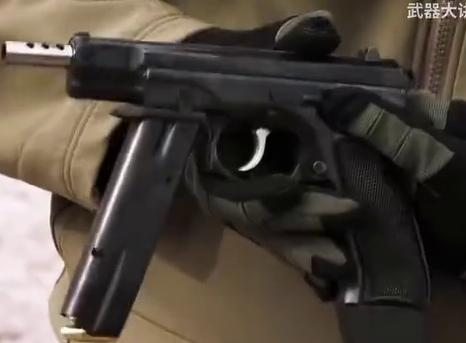gun: (1, 0, 466, 343)
